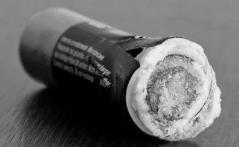electronic: (13, 4, 233, 144)
